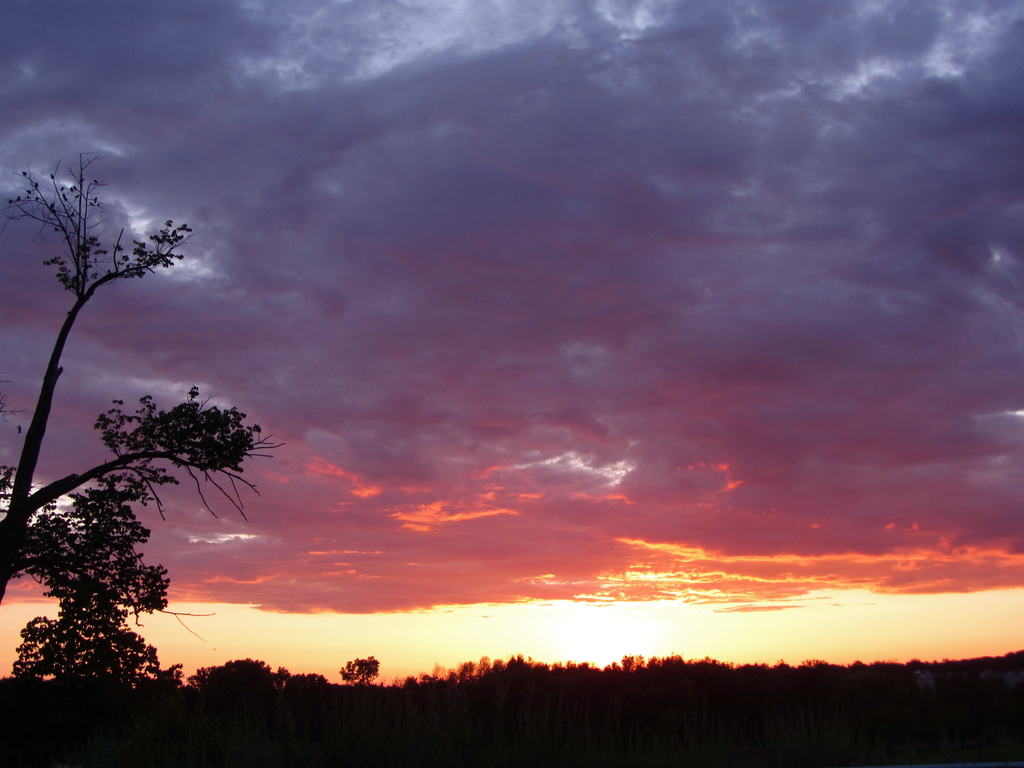Tree: (0, 161, 272, 644), (30, 492, 170, 706), (197, 652, 311, 692), (344, 652, 379, 700)
